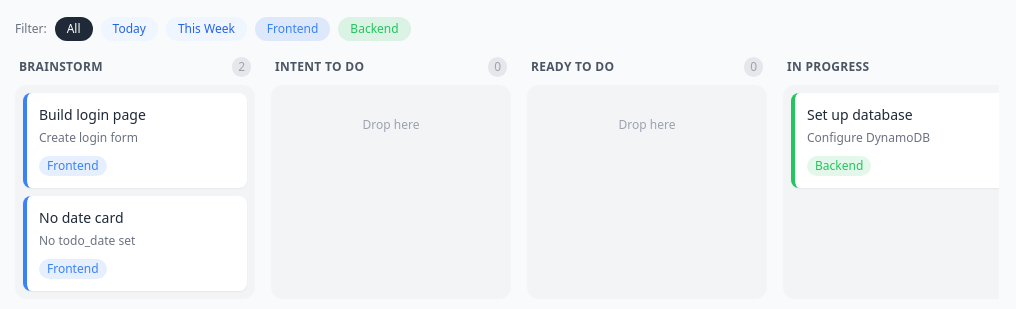
Test: KanbanView › clicking Today shows only cards scheduled for today
Click the button "Today": (129, 29) top-left (101, 17), bottom-right (158, 41)
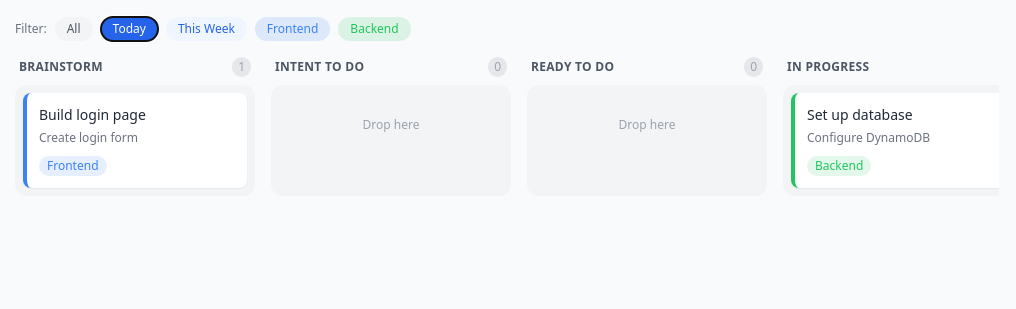
Expected: the text "Build login page" is shown, top-left (39, 105), bottom-right (146, 124)
Expected: the text "No date card" is gone
